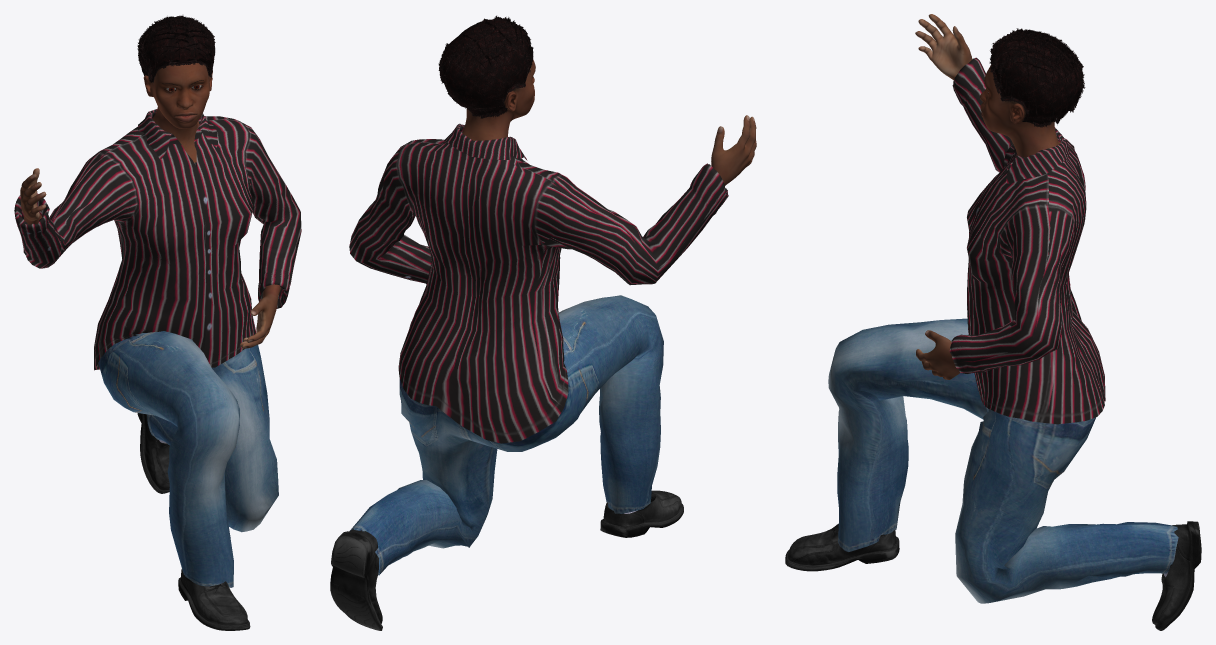
The model's file is devotee-nu.glb.
3 views of the same model, side by side, from view 1: azimuth 30°, elevation 25°; view 2: azimuth 150°, elevation 25°; view 3: azimuth 270°, elevation 25° (orthographic). The views are drawn at different scales.
Parts seen in each view (by area): view 1: male_casualsuit03, Morgan | anatomical body, shoes04, afro01; view 2: male_casualsuit03, afro01, shoes04, Morgan | anatomical body; view 3: male_casualsuit03, afro01, Morgan | anatomical body, shoes04.
Part boxes in pixels (left/top/right/bottom): male_casualsuit03: left=14, top=109, right=301, bottom=587; Morgan | anatomical body: left=20, top=63, right=280, bottom=348; shoes04: left=137, top=413, right=250, bottom=630; afro01: left=137, top=15, right=215, bottom=82; male_casualsuit03: left=349, top=123, right=728, bottom=575; afro01: left=438, top=15, right=533, bottom=118; shoes04: left=330, top=490, right=683, bottom=630; Morgan | anatomical body: left=462, top=59, right=756, bottom=185; male_casualsuit03: left=828, top=57, right=1178, bottom=603; afro01: left=989, top=28, right=1085, bottom=127; Morgan | anatomical body: left=915, top=14, right=1060, bottom=379; shoes04: left=785, top=521, right=1201, bottom=630.
Size of the model in its own units: 0.8658 by 1.35 by 0.8984.
Materials: 9 (9 with a texture image).
